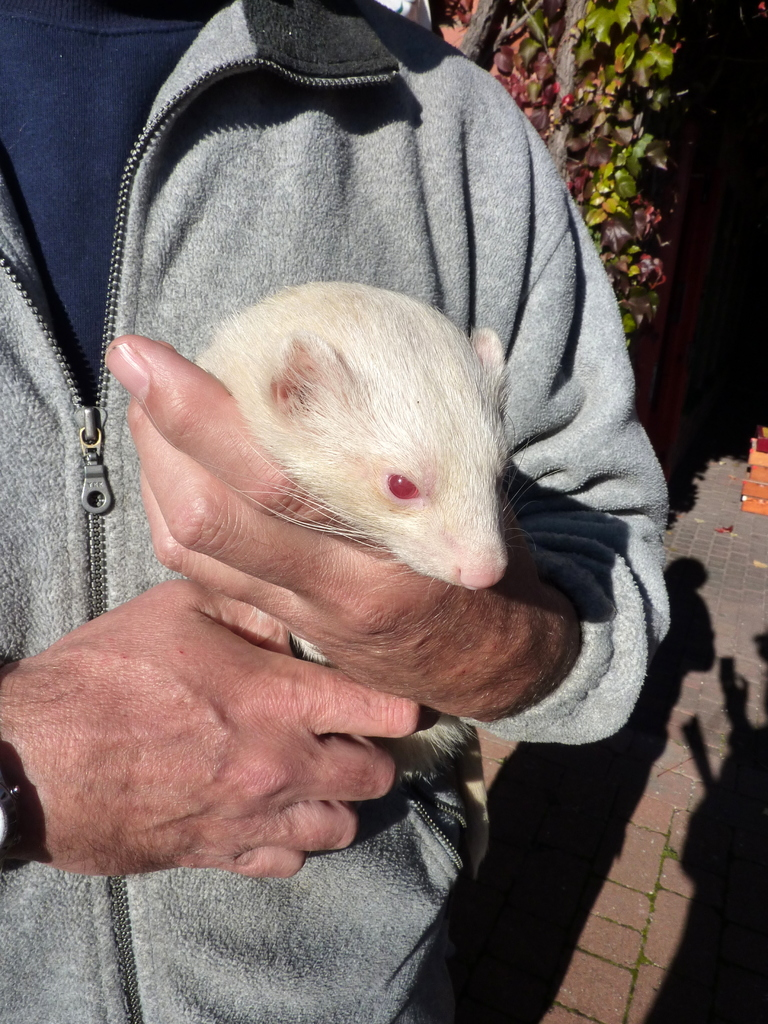Human_hand: (105, 250, 671, 745), (1, 579, 420, 877)
